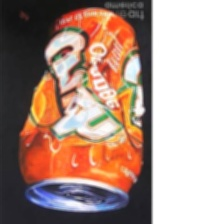can: (16, 4, 147, 214)
